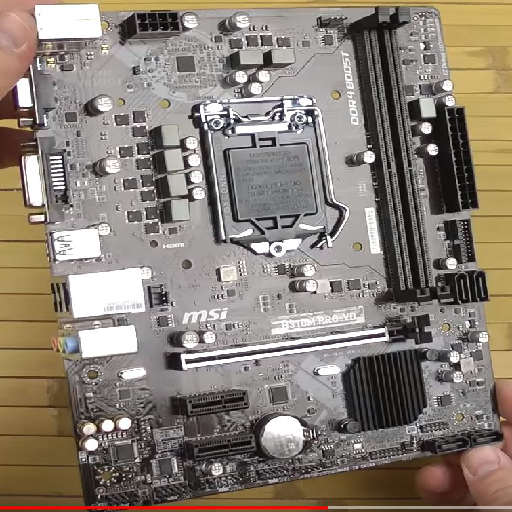CPU: (187, 93, 346, 254)
GPU: (172, 314, 433, 377)
MOTHERBOARD: (12, 7, 506, 493)
RAM: (345, 9, 447, 304)
